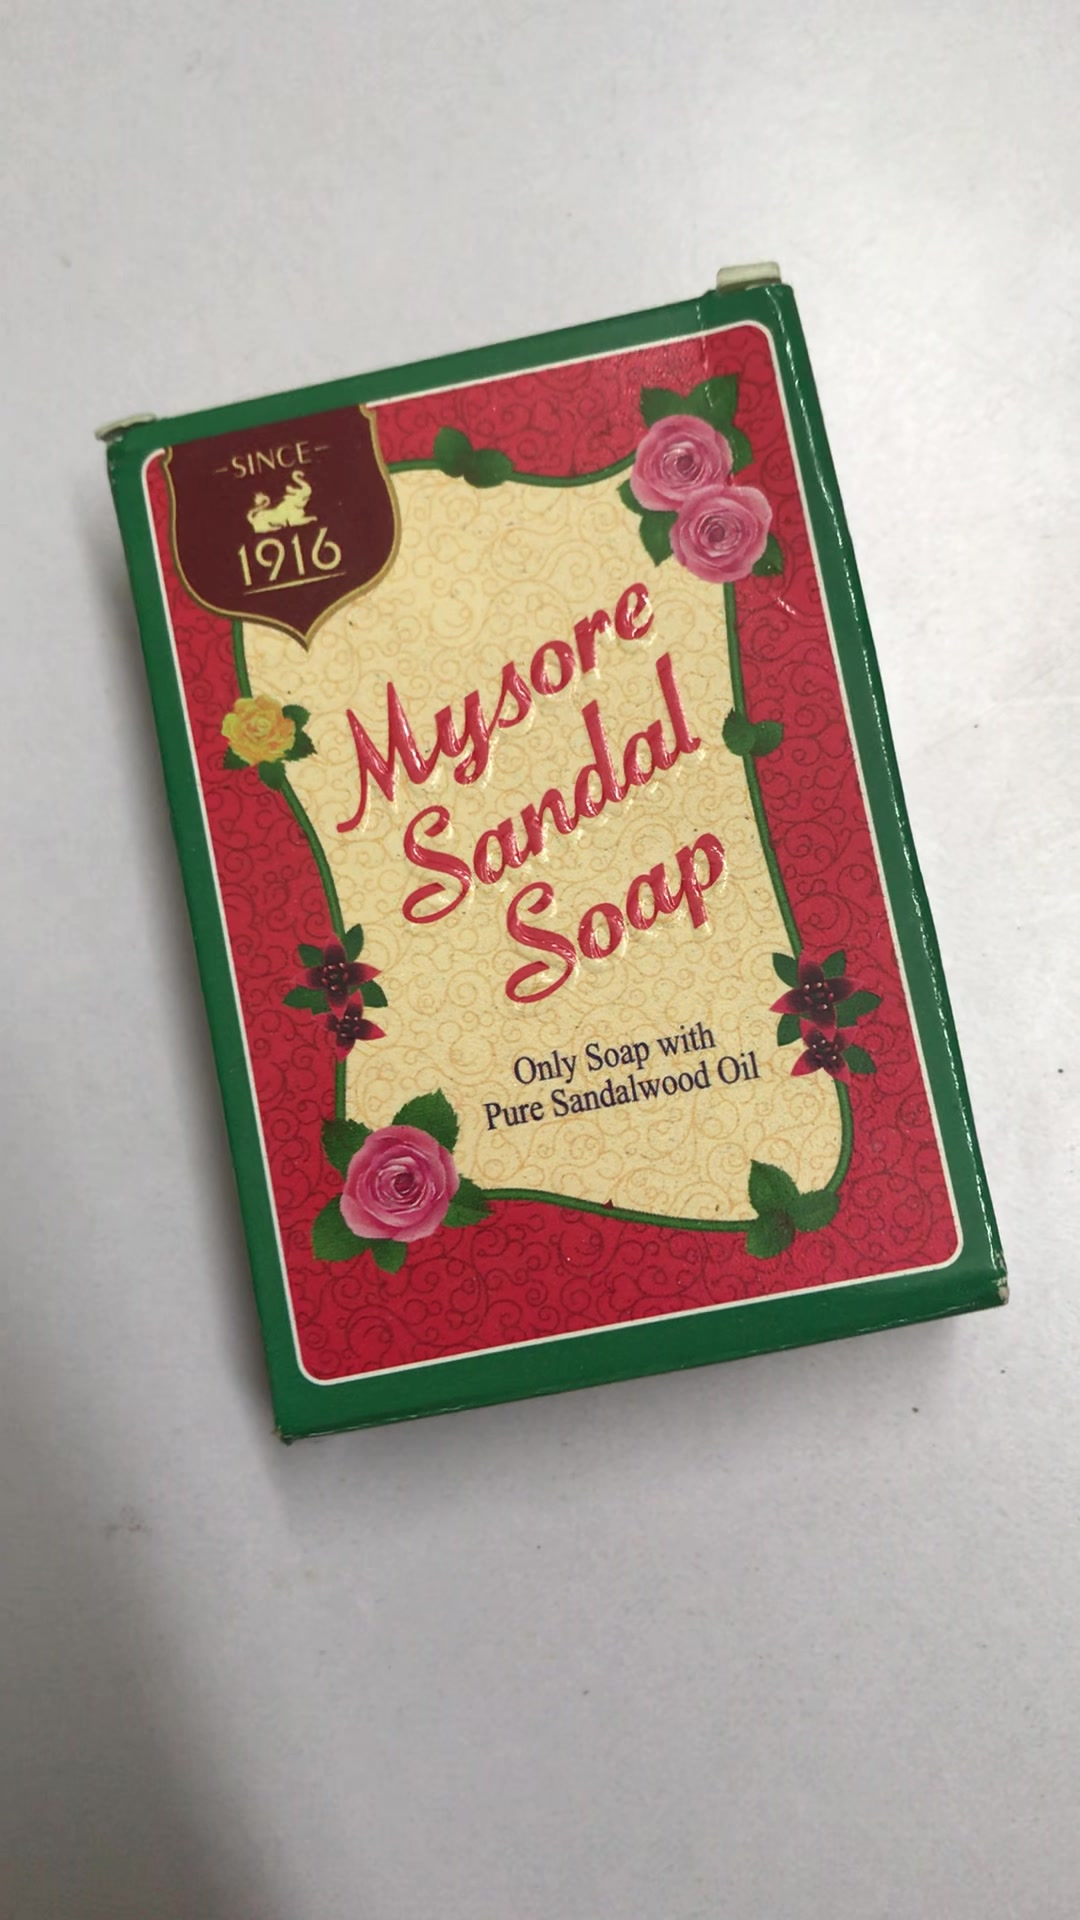mysore sandal soap: (105, 281, 1009, 1444)
